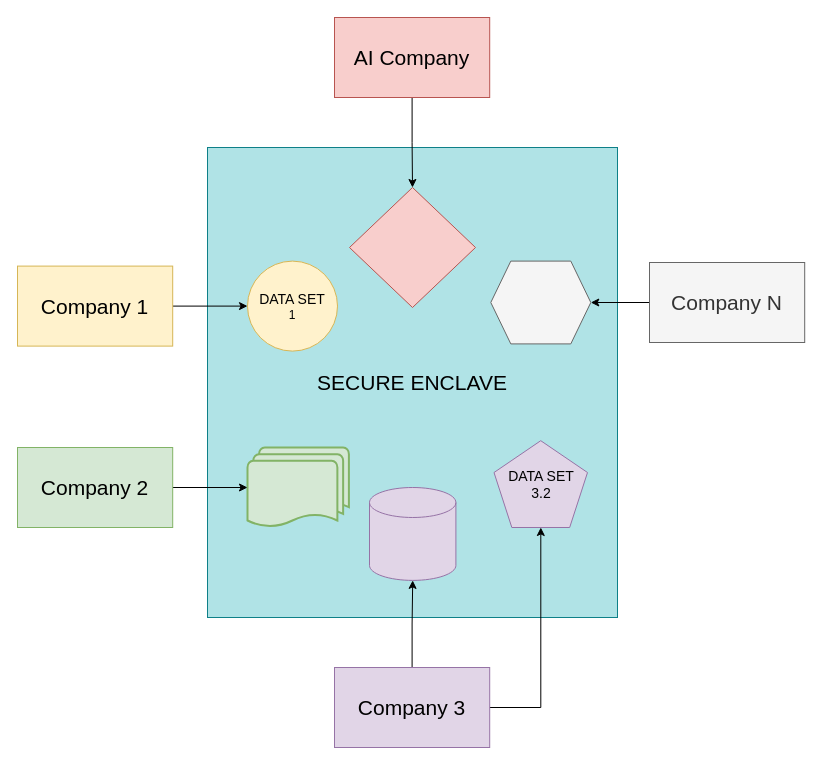
This 823x765 diagram has some shape labels left out. The centre of each missing label's shape, as x and y in pixels:
AI ALGORITHM: [412,247]
DATA SET 2: [297,487]
DATA SET 3.1: [412,533]
DATA SET N: [540,302]
